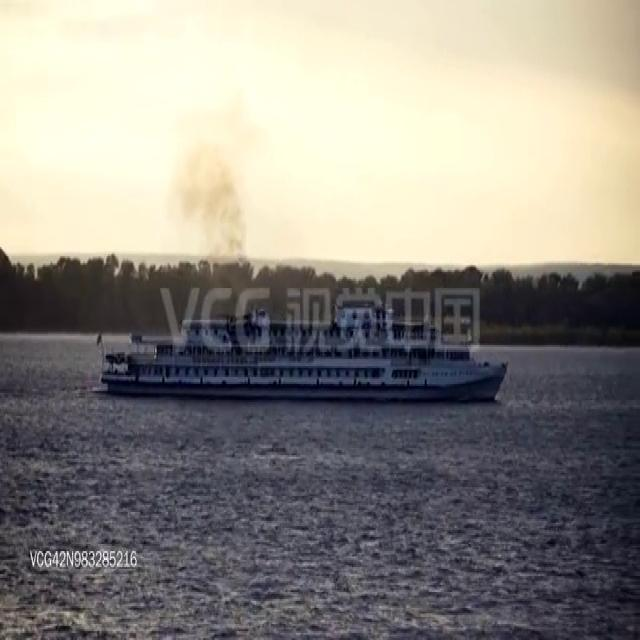passenger ship: (92, 300, 510, 407)
